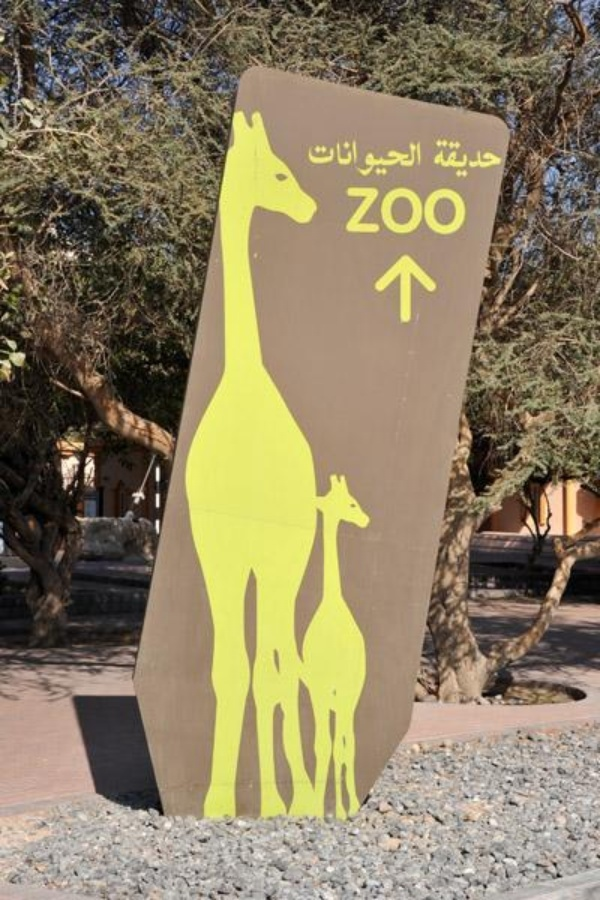text: (353, 187, 368, 237), (369, 187, 384, 237), (385, 187, 400, 237), (401, 187, 416, 237), (417, 187, 432, 237), (433, 187, 448, 237), (449, 187, 464, 237), (321, 137, 336, 179), (337, 137, 352, 179), (353, 137, 368, 179), (369, 137, 384, 179), (385, 137, 400, 179), (401, 137, 416, 179), (433, 139, 448, 178), (449, 139, 464, 178), (465, 139, 480, 178), (481, 139, 496, 178), (310, 137, 320, 179), (346, 187, 352, 237), (417, 137, 424, 179), (497, 139, 503, 178), (465, 187, 466, 237)
